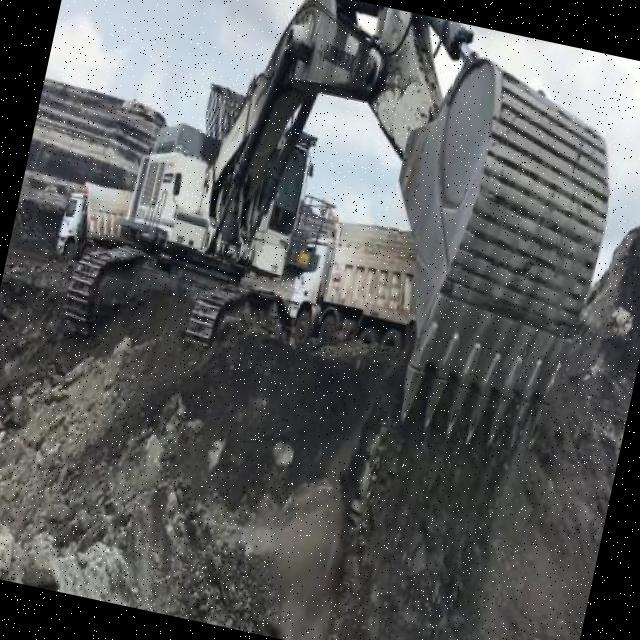Dump Truck: (282, 208, 419, 356), (51, 176, 136, 270)
Excavator: (47, 0, 640, 490)
